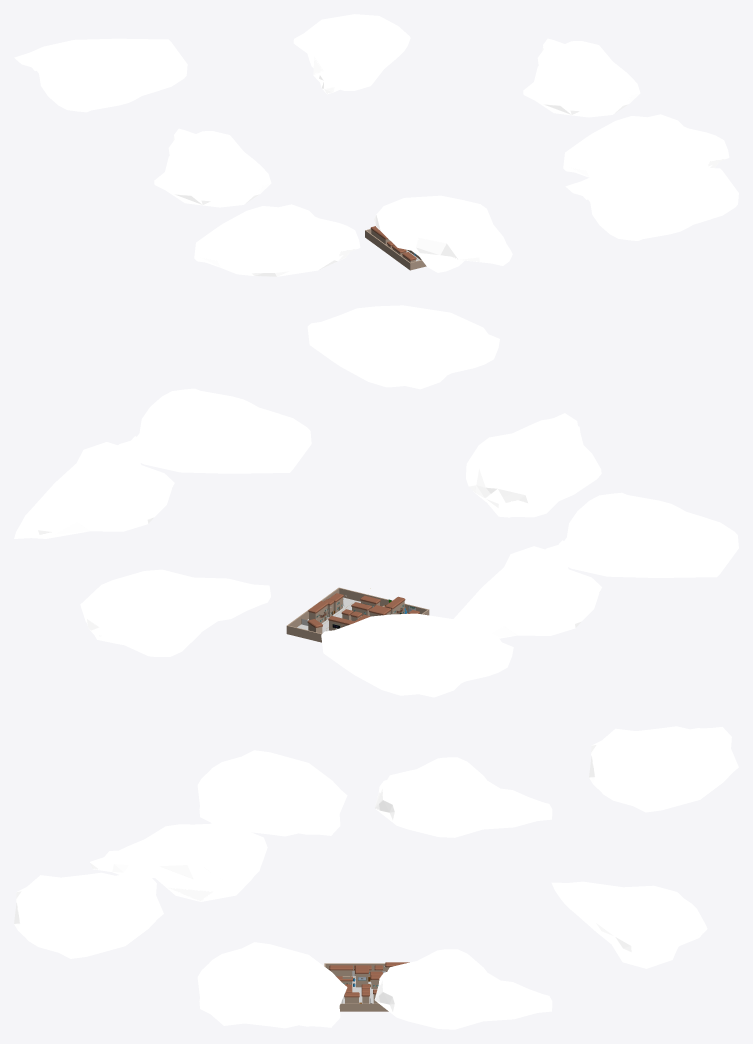
The model's file is Level_1.glb.
The picture shows the model from 3 angles, top to bottom: view 1: azimuth 30°, elevation 25°; view 2: azimuth 150°, elevation 25°; view 3: azimuth 270°, elevation 25°; orthographic projection. The views are drawn at different scales.
Parts seen in each view (by area): view 1: Cloud.008, Cloud.004, Cloud.001, Cloud.003, Cloud.005, Cloud.002, Cloud.006, Cloud.007; view 2: Cloud.005, Cloud.001, Cloud.004, Cloud.008, Cloud.007, Cloud.003, Cloud.006, Cloud.002; view 3: Cloud.005, Cloud.008, Cloud.004, Cloud.001, Cloud.002, Cloud.006, Cloud.003, Cloud.007.
Part boxes in pixels (x1,y1,x2,y2): Cloud.008: (565,167,738,240); Cloud.004: (14,38,187,112); Cloud.001: (194,204,360,276); Cloud.003: (374,195,512,272); Cloud.005: (563,114,729,177); Cloud.002: (154,128,271,207); Cloud.006: (523,38,640,117); Cloud.007: (293,14,410,94); Cloud.005: (118,388,311,473); Cloud.001: (545,492,738,577); Cloud.004: (321,613,513,697); Cloud.008: (307,305,499,389); Cloud.007: (80,569,270,656); Cloud.003: (466,413,601,517); Cloud.006: (14,442,174,538); Cloud.002: (453,546,601,638); Cloud.005: (197,942,347,1028); Cloud.008: (14,872,163,958); Cloud.004: (589,726,738,812); Cloud.001: (197,750,347,836); Cloud.002: (374,757,552,837); Cloud.006: (374,949,552,1029); Cloud.003: (90,823,267,901); Cloud.007: (551,881,707,968).
Size of what is drawn, in the model's own units: 550 by 139 by 634.
Materials: 35 (7 with a texture image).
